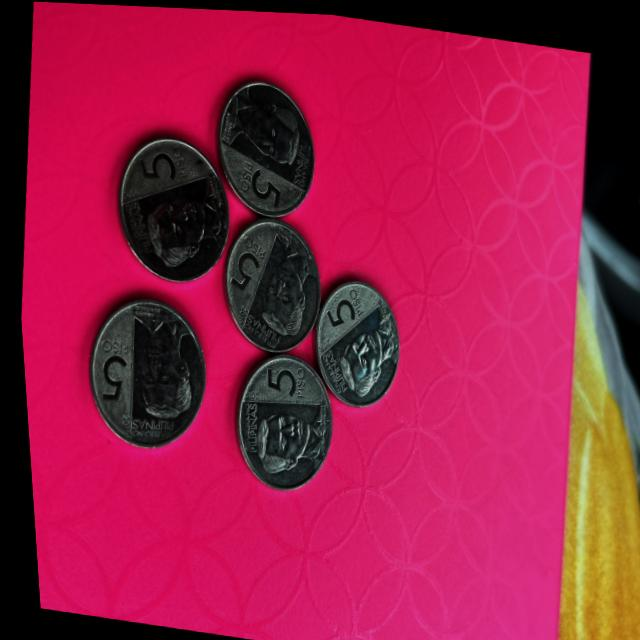5_New_Front: (217, 225, 273, 292), (132, 136, 190, 195), (81, 332, 131, 400), (315, 276, 361, 334), (255, 354, 309, 403), (228, 156, 284, 201)
